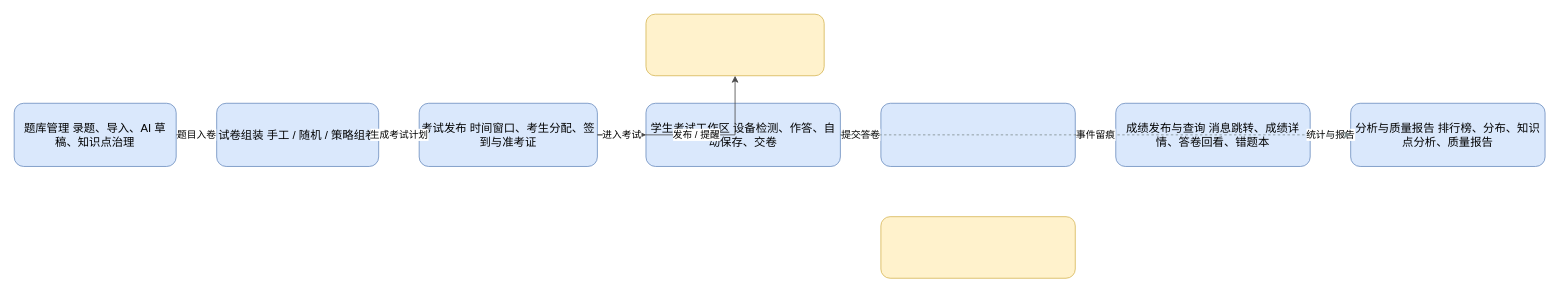
Image size: 1559x292. Some labels were removed from this diagram. Each missing label, with the centre of its shape:
"监考与审计 风险事件、登录风险、操作留痕" goes at point 977,247.
"通知协同 开考提醒、站内消息、MOCK_SMS" goes at point 734,44.
"阅卷治理 自动判分、人工评分、复核、重判、申诉" goes at point 977,134.
